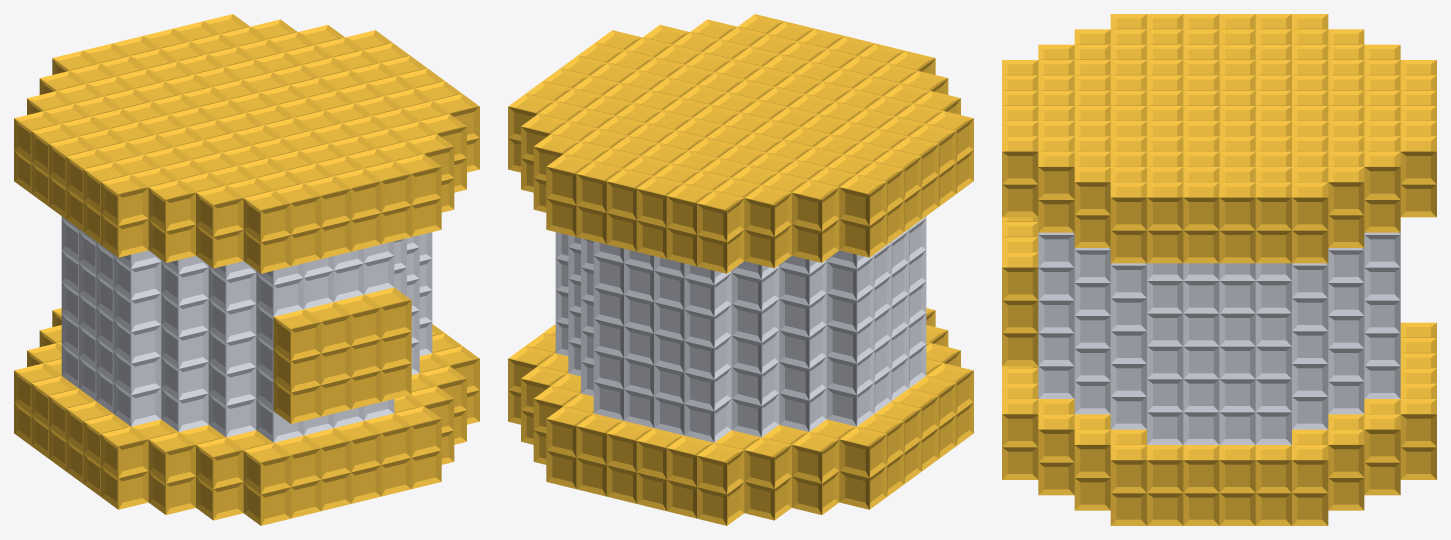
The model's file is Vitrina.fbx.
The picture shows the model from 3 angles, left to right: view 1: azimuth 30°, elevation 25°; view 2: azimuth 150°, elevation 25°; view 3: azimuth 270°, elevation 25°; orthographic projection. The views are drawn at different scales.
Visible parts, largest first — view 1: Borde, Pedestal, Placa; view 2: Borde, Pedestal; view 3: Borde, Pedestal, Placa.
Part boxes in pixels (box(x1,y1,x2,y2)): Borde: box(14, 14, 479, 525); Pedestal: box(61, 216, 432, 442); Placa: box(273, 287, 411, 423); Borde: box(508, 14, 973, 525); Pedestal: box(555, 216, 926, 442); Borde: box(1002, 14, 1436, 525); Pedestal: box(1038, 232, 1400, 444); Placa: box(1002, 217, 1038, 366).
Size of the model in its own units: 1.68 by 1.4 by 1.68.
